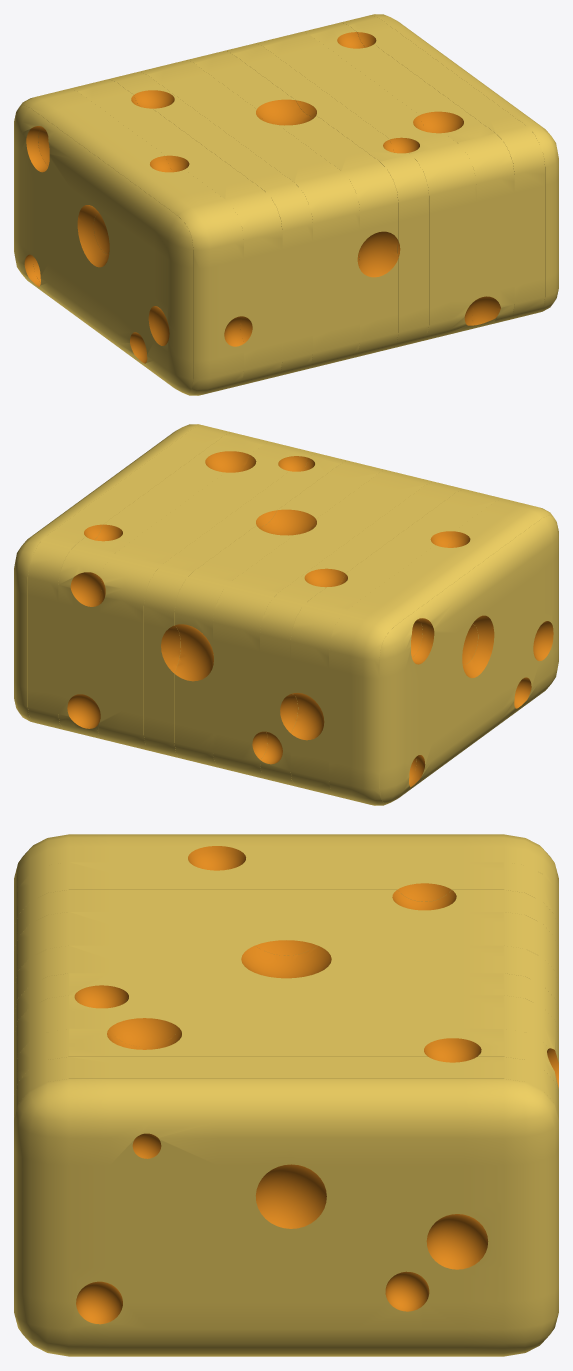
The model's file is cheese model4.fbx.
3 views of the same model, one above another, from view 1: azimuth 30°, elevation 25°; view 2: azimuth 150°, elevation 25°; view 3: azimuth 270°, elevation 25° (orthographic). The views are drawn at different scales.
Visible parts, largest first — view 1: Cheese.010, Cheese.009, Cheese.003, Cheese.006, Cheese.002, Cheese.008, Cheese.005, Cheese.001, Cheese.007, Cheese.004, Cheese; view 2: Cheese.010, Cheese.009, Cheese.006, Cheese.003, Cheese.002, Cheese.008, Cheese.005, Cheese.004, Cheese.007, Cheese.001, Cheese; view 3: Cheese, Cheese.003, Cheese.006, Cheese.009, Cheese.005, Cheese.008, Cheese.002, Cheese.004, Cheese.001, Cheese.007.
Boxes of the visible parts, bbox=[...] form: Cheese.010: bbox=[14, 105, 193, 393]; Cheese.009: bbox=[20, 88, 243, 395]; Cheese.003: bbox=[256, 31, 476, 340]; Cheese.006: bbox=[140, 60, 359, 368]; Cheese.002: bbox=[303, 22, 514, 329]; Cheese.008: bbox=[71, 79, 282, 385]; Cheese.005: bbox=[187, 50, 398, 357]; Cheese.001: bbox=[341, 15, 544, 319]; Cheese.007: bbox=[109, 71, 312, 376]; Cheese.004: bbox=[225, 43, 428, 348]; Cheese: bbox=[372, 14, 558, 312]; Cheese.010: bbox=[379, 515, 558, 803]; Cheese.009: bbox=[329, 498, 552, 805]; Cheese.006: bbox=[213, 470, 432, 778]; Cheese.003: bbox=[96, 441, 316, 750]; Cheese.002: bbox=[58, 432, 269, 739]; Cheese.008: bbox=[290, 489, 501, 795]; Cheese.005: bbox=[174, 460, 385, 767]; Cheese.004: bbox=[144, 453, 347, 758]; Cheese.007: bbox=[260, 481, 463, 786]; Cheese.001: bbox=[28, 425, 231, 729]; Cheese: bbox=[14, 424, 200, 722]; Cheese: bbox=[14, 1079, 558, 1356]; Cheese.003: bbox=[14, 995, 558, 1086]; Cheese.006: bbox=[14, 912, 558, 985]; Cheese.009: bbox=[14, 834, 558, 901]; Cheese.005: bbox=[14, 945, 558, 1013]; Cheese.008: bbox=[14, 862, 558, 929]; Cheese.002: bbox=[14, 1029, 558, 1096]; Cheese.004: bbox=[14, 973, 558, 1035]; Cheese.001: bbox=[14, 1057, 558, 1118]; Cheese.007: bbox=[14, 890, 558, 951].
Bounding box in the file's own units: 357 × 164 × 297.
